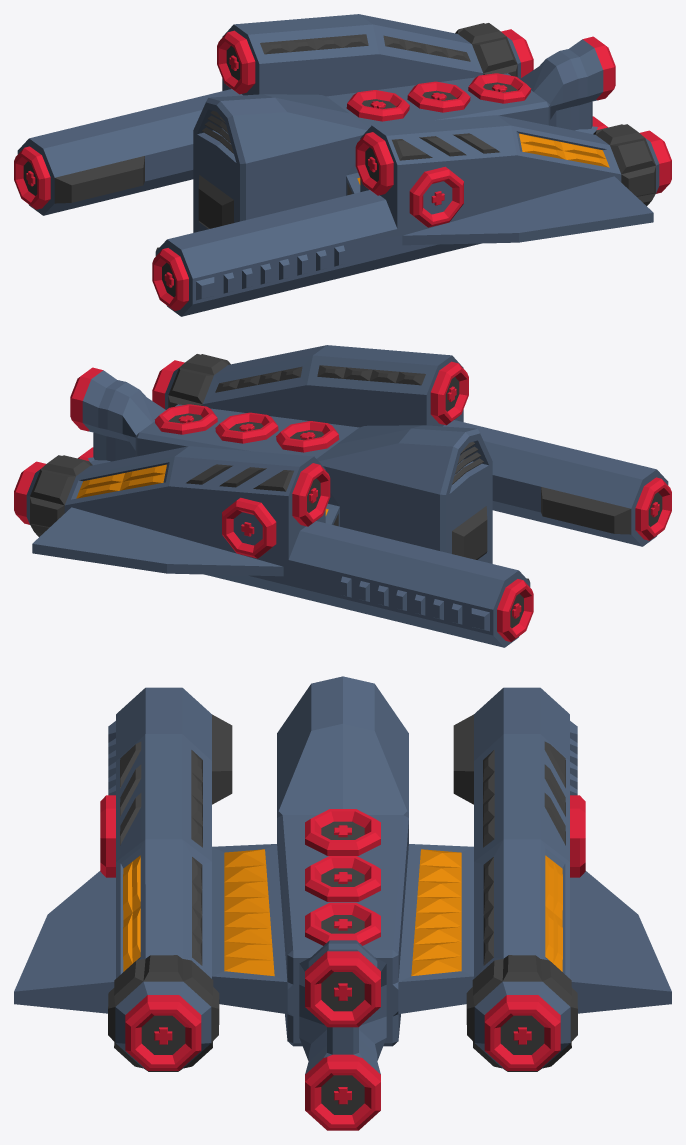
File: spaceship.fbx
3 views of the same model, one above another, from view 1: azimuth 30°, elevation 25°; view 2: azimuth 150°, elevation 25°; view 3: azimuth 270°, elevation 25° (orthographic). The views are drawn at different scales.
Parts seen in each view (by area): view 1: Spaceship; view 2: Spaceship; view 3: Spaceship.
Part boxes in pixels (x1,y1,x2,y2): Spaceship: (14,14,671,316); Spaceship: (14,345,671,647); Spaceship: (14,676,671,1130).
Bounding box in the file's own units: 1152 × 358 × 997.
